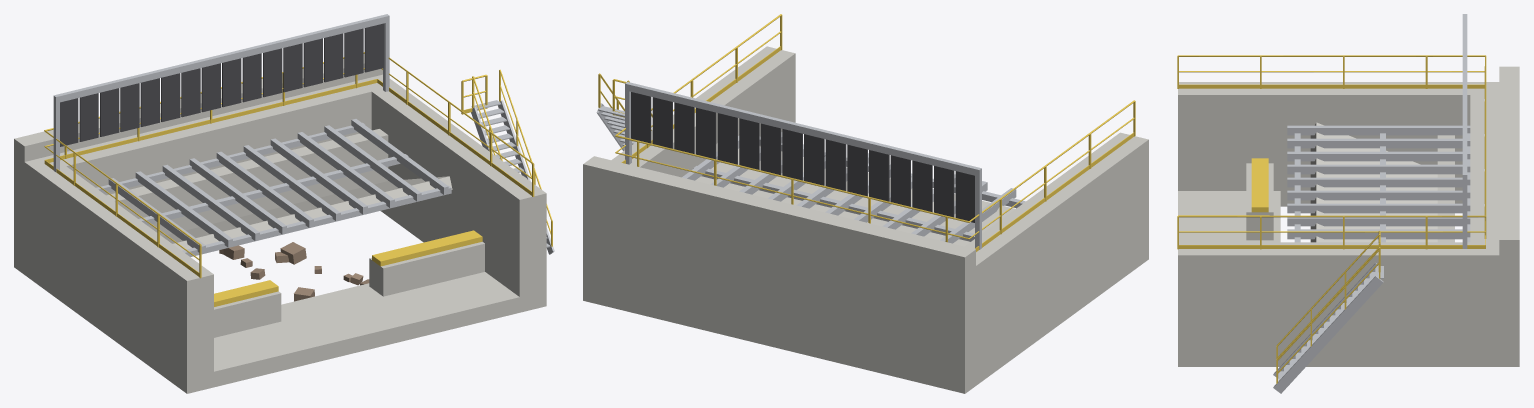
Rendered from ore-processing-and-haulage-plant-dump-pocket-04362164.glb.
The picture shows the model from 3 angles, left to right: view 1: azimuth 30°, elevation 25°; view 2: azimuth 150°, elevation 25°; view 3: azimuth 270°, elevation 25°; orthographic projection. The views are drawn at different scales.
Visible parts, largest first — view 1: dump-pocket; view 2: dump-pocket; view 3: dump-pocket.
Part boxes in pixels (<box>): dump-pocket: <box>14,14,554,393</box>; dump-pocket: <box>583,14,1148,393</box>; dump-pocket: <box>1177,14,1519,393</box>.
Bounding box in the file's own units: 13.88 × 6 × 10.03.
